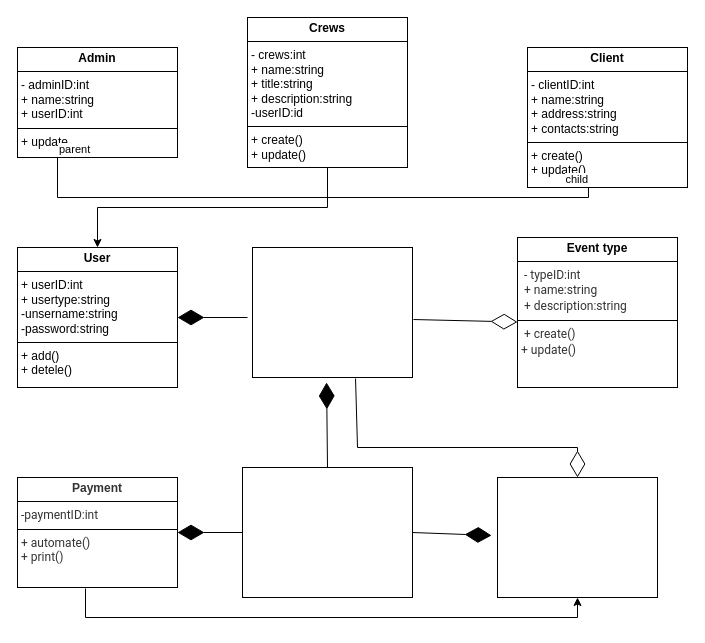
This 705x643 diagram has some shape labels left out. The shapes that lost their labels are listed below. From the top down, each one's centre as x and y in pixels, then its label:
At (x=332, y=312): "Events + eventID:int + name:string + priceID:ID + create() + update()".
At (x=327, y=532): "Reports - typeID:int + name:string + description:string + generate() + print()".
At (x=577, y=537): "Price - pricelD:int + amoung:string + description:string + method(): Type".
